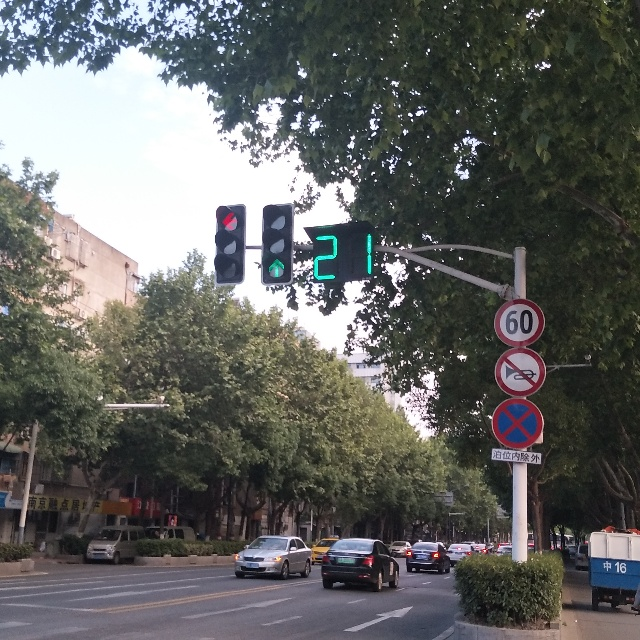nohonk: (502, 354, 543, 386)
stop: (501, 407, 535, 448)
